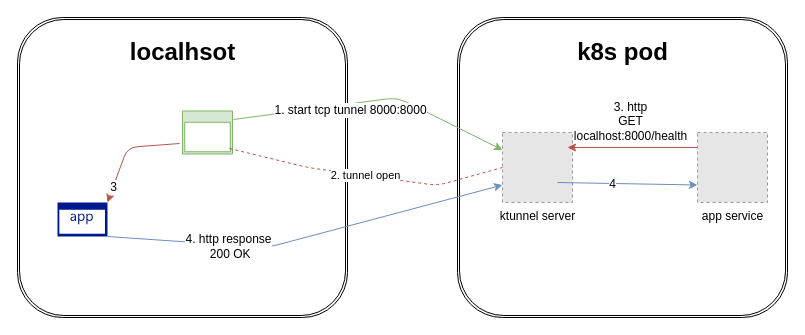
Some shapes in this 805 by 335 pixel diagram are drawn without their labels. Grey dashed boxes stand in for pictures. Each missing label, with the centre of its shape:
"ktunnel client" goes at point 207,132.
"webapp Listening on :8000" goes at point 82,219.
